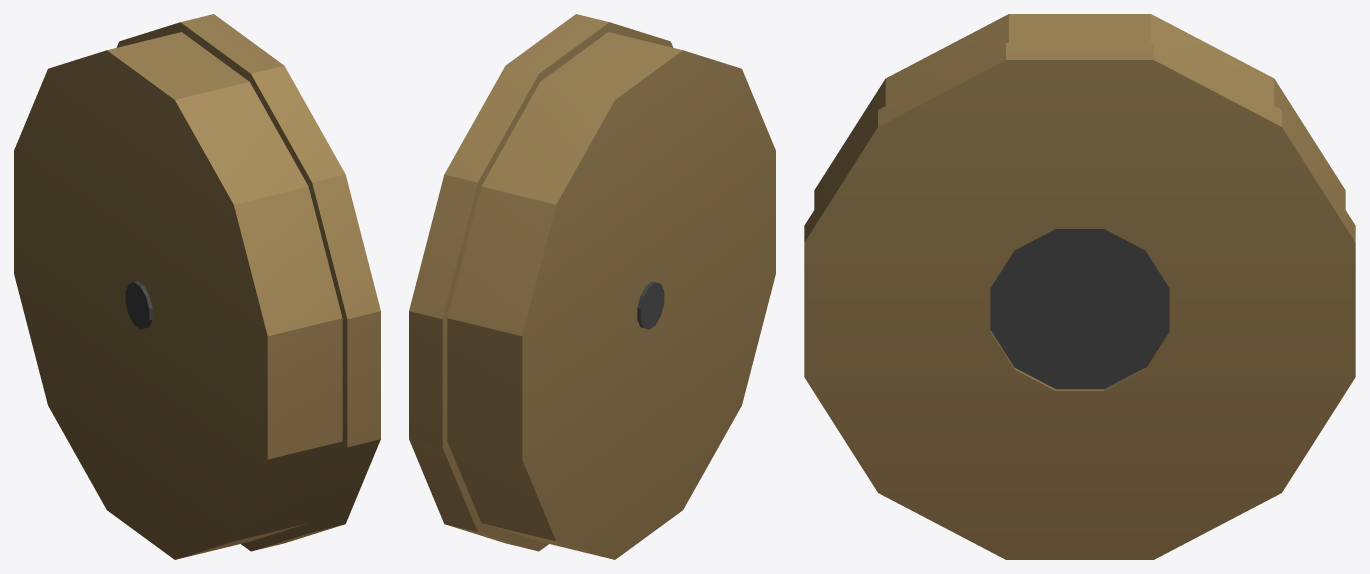
File: LMG4_04_2.fbx
The picture shows the model from 3 angles, left to right: view 1: azimuth 30°, elevation 25°; view 2: azimuth 150°, elevation 25°; view 3: azimuth 270°, elevation 25°; orthographic projection. The views are drawn at different scales.
Visible parts, largest first — view 1: LMG4_04_2; view 2: LMG4_04_2; view 3: LMG4_04_2.
Boxes of the visible parts, x1,y1,x2,y2 form: LMG4_04_2: [14, 14, 380, 559]; LMG4_04_2: [409, 14, 775, 559]; LMG4_04_2: [804, 14, 1355, 559].
Bounding box in the file's own units: 0.0473 × 0.193 × 0.193.
